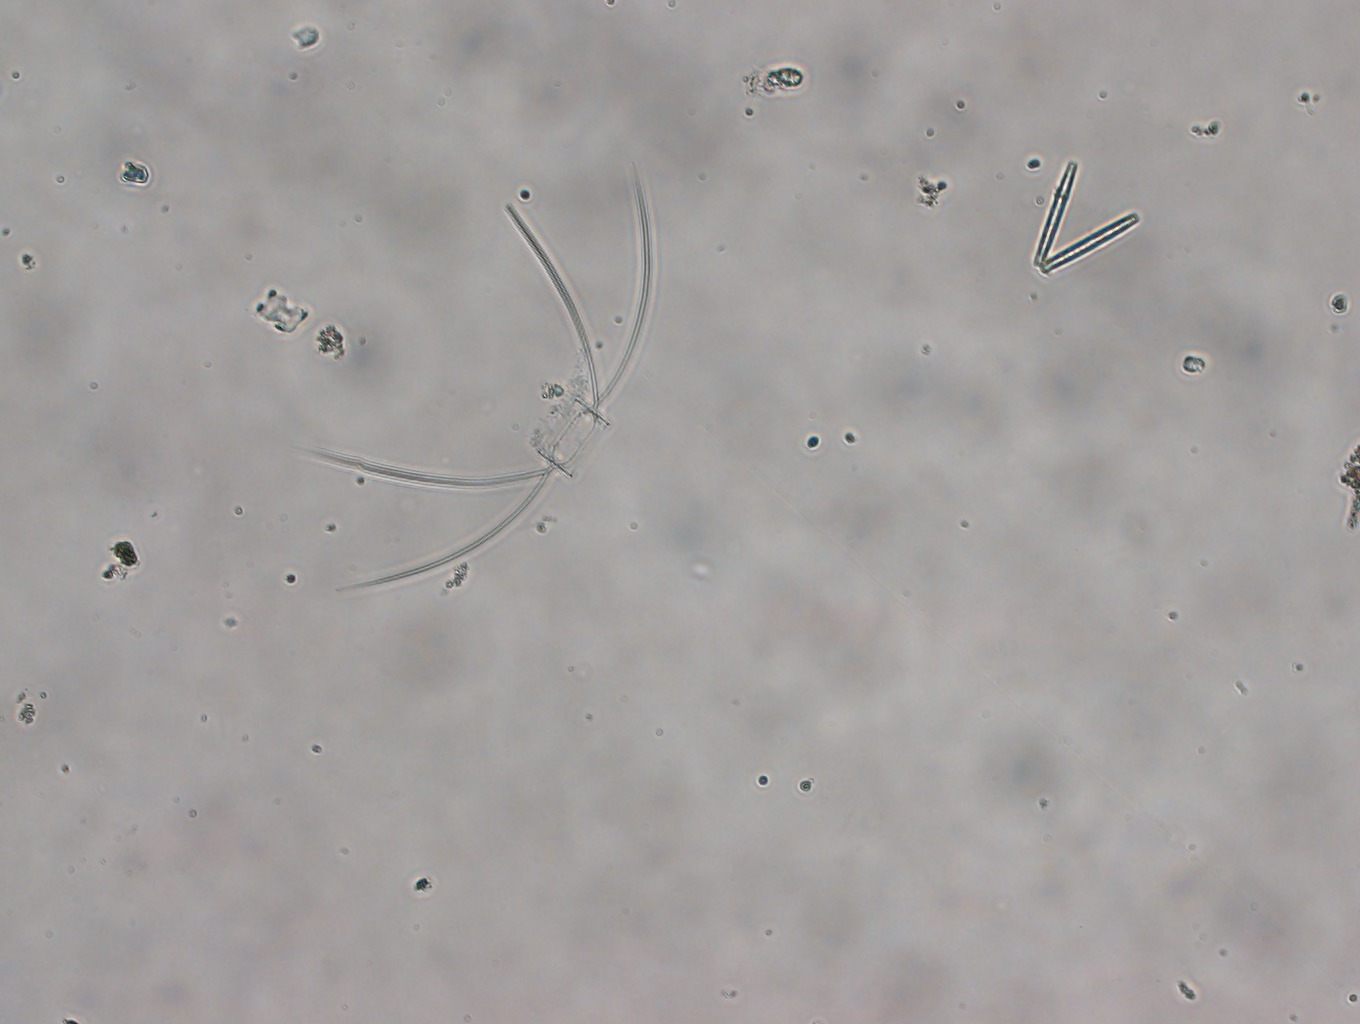chaetoceros: (291, 150, 660, 602)
thalassionema nitzschioides: (1023, 153, 1147, 281)
